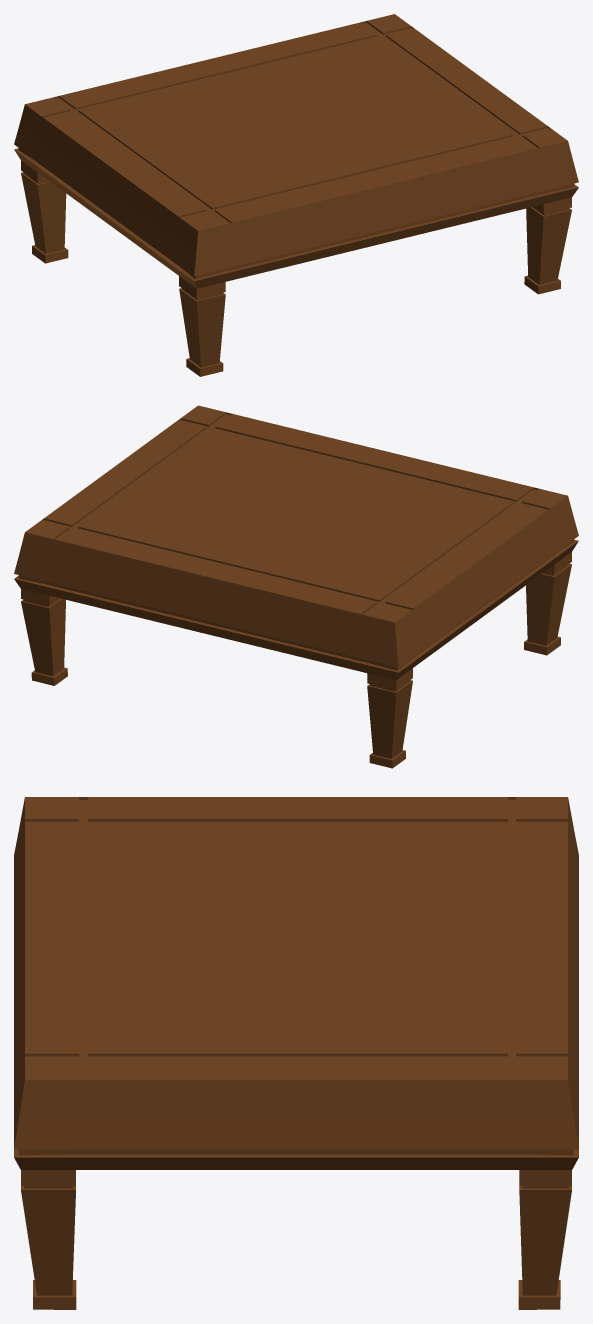
File: bedWyrm.fbx
3 renders of one model, top to bottom at view 1: azimuth 30°, elevation 25°; view 2: azimuth 150°, elevation 25°; view 3: azimuth 270°, elevation 25°, orthographic. The views are drawn at different scales.
Visible parts, largest first — view 1: Cube.006; view 2: Cube.006; view 3: Cube.006.
Part boxes in pixels (x1,y1,x2,y2): Cube.006: [14, 14, 578, 376]; Cube.006: [14, 405, 578, 768]; Cube.006: [14, 797, 578, 1309].
Size of the model in its own units: 484 by 597 by 221.
